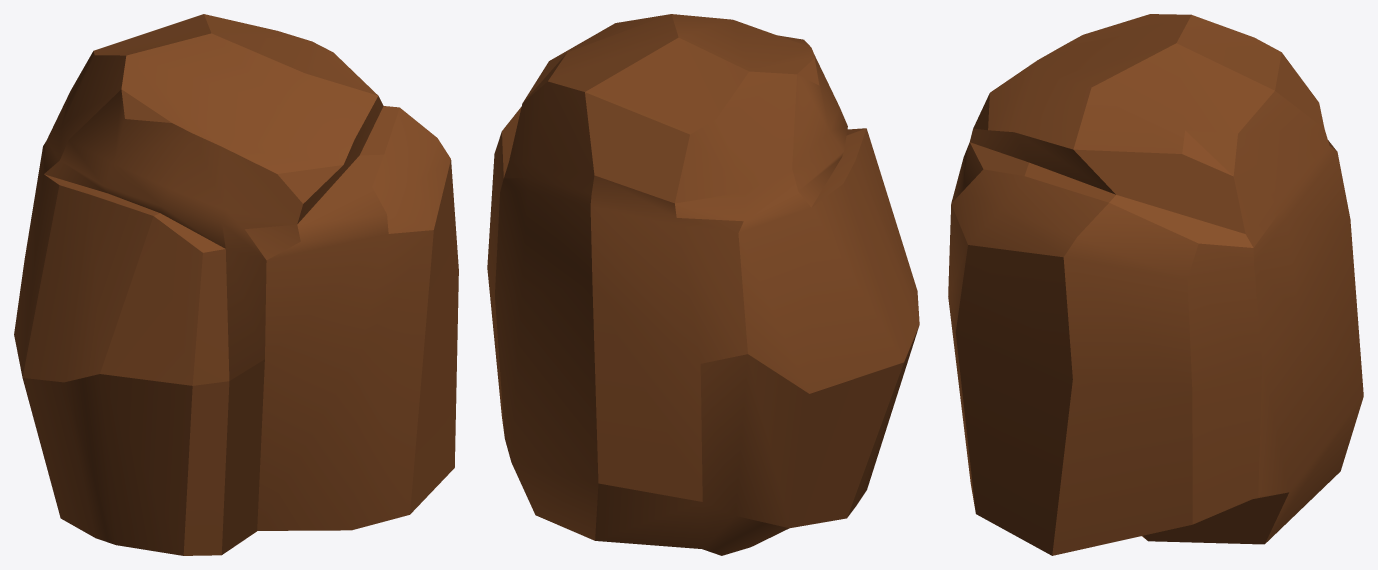
Rendered from Rock 3.glb.
3 views of the same model, side by side, from view 1: azimuth 30°, elevation 25°; view 2: azimuth 150°, elevation 25°; view 3: azimuth 270°, elevation 25° (orthographic). The views are drawn at different scales.
Visible parts, largest first — view 1: Rock_3; view 2: Rock_3; view 3: Rock_3.
Part boxes in pixels (box(x1,y1,x2,y2)): Rock_3: box(14, 14, 458, 555); Rock_3: box(487, 14, 919, 555); Rock_3: box(948, 14, 1363, 555).
Size of the model in its own units: 3.3 by 3.83 by 3.01.
Materials: 1 (1 with a texture image).
